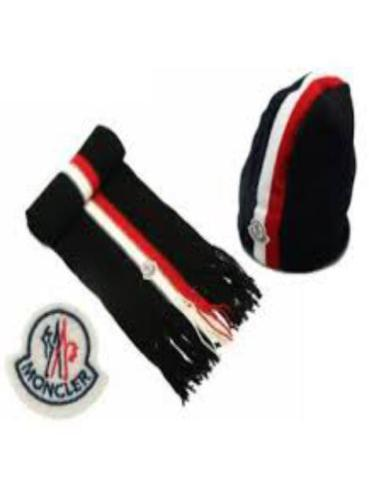MONCLER: (40, 314, 78, 381)
